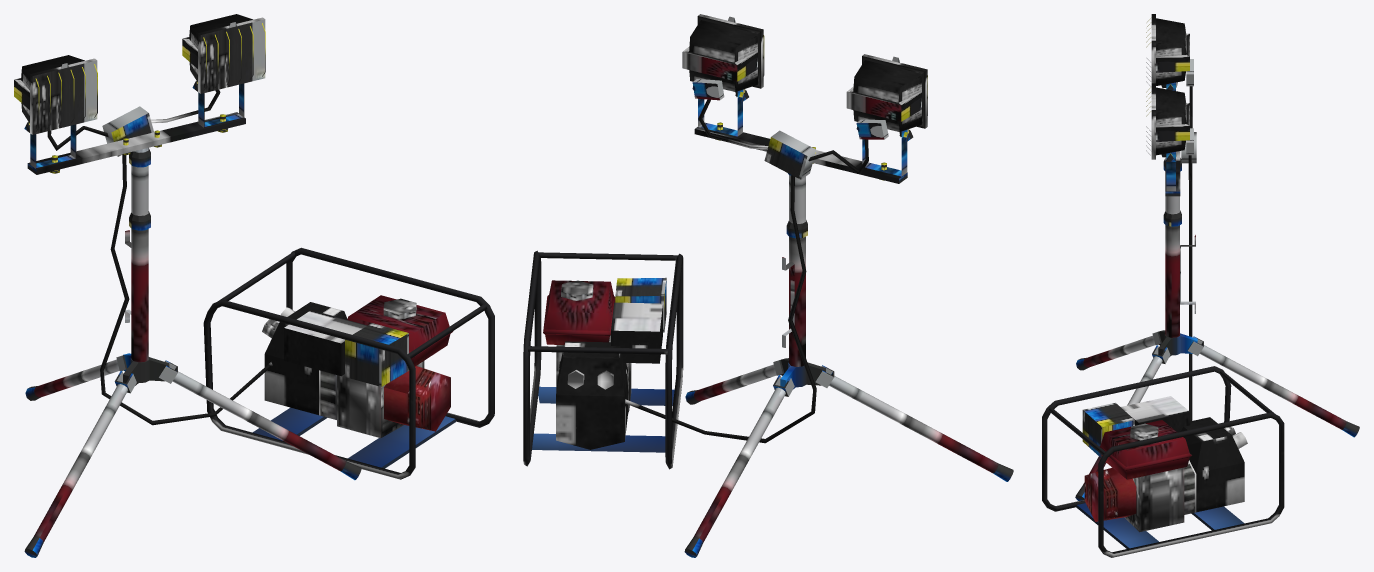
File: PRP_LightingGenerator.FBX
3 renders of one model, left to right at view 1: azimuth 30°, elevation 25°; view 2: azimuth 150°, elevation 25°; view 3: azimuth 270°, elevation 25°, orthographic. The views are drawn at different scales.
Parts seen in each view (by area): view 1: PRP_LightGenerator_01; view 2: PRP_LightGenerator_01; view 3: PRP_LightGenerator_01.
Part boxes in pixels (x1,y1,x2,y2): PRP_LightGenerator_01: (14,14,494,557); PRP_LightGenerator_01: (523,14,1013,557); PRP_LightGenerator_01: (1042,14,1359,557).
Size of the model in its own units: 121 by 82.26 by 108.
